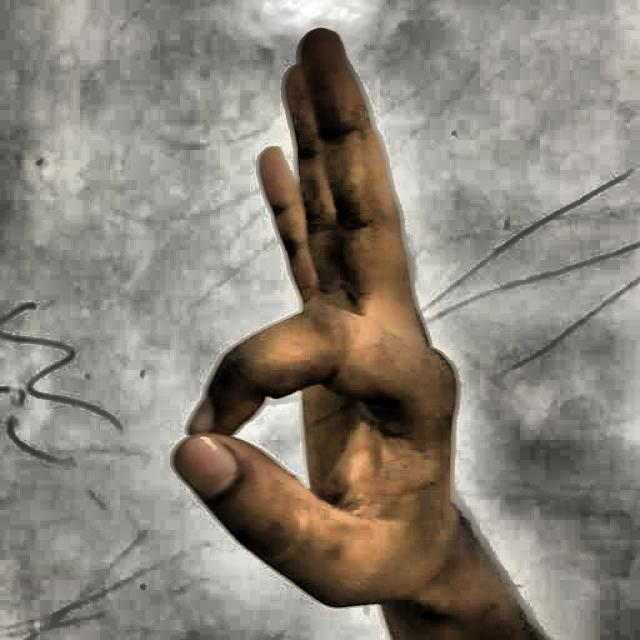Ca: (133, 15, 556, 640)
